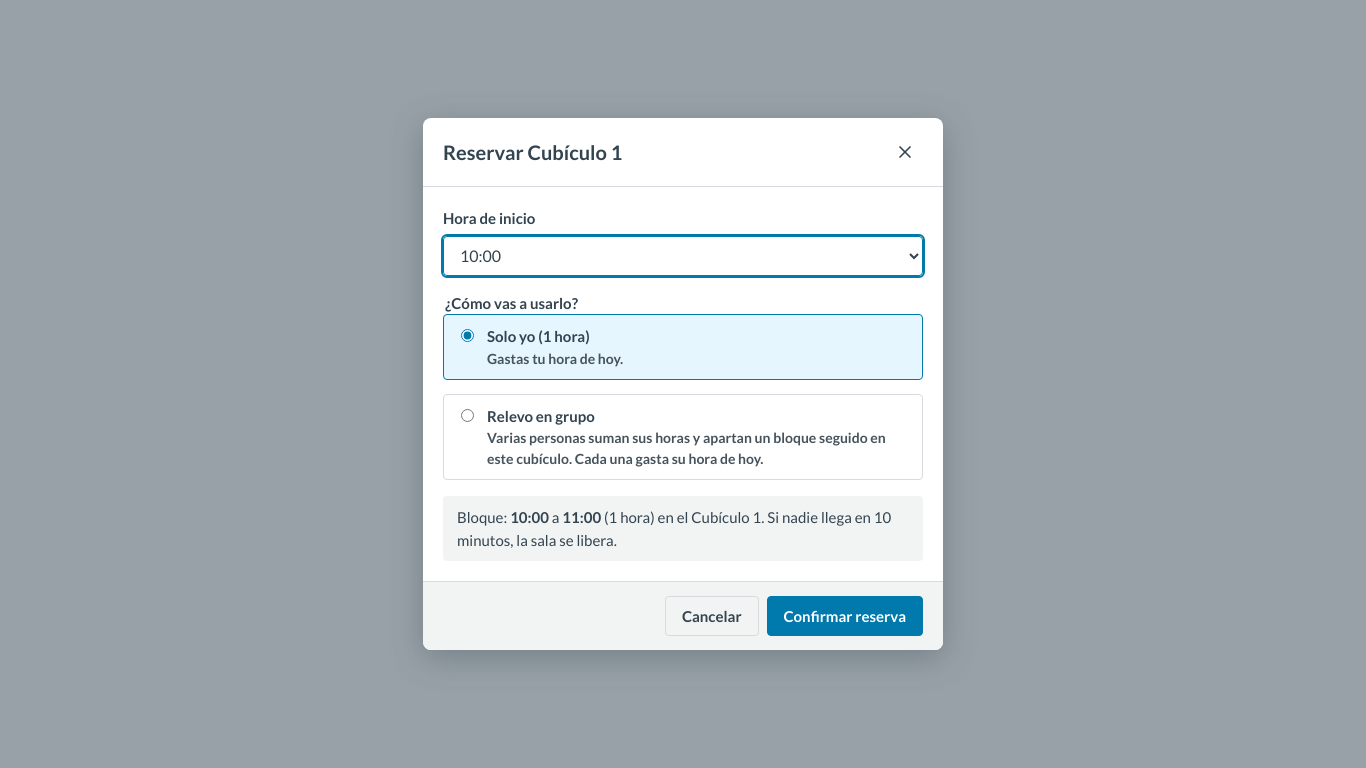
Scenario: ModalReserva › no deja confirmar si alguien del grupo está repetido
The image size is (1366, 768).
Click the radio button labelled "Relevo en grupo".
click(468, 415)  # box left=461, top=408, right=474, bottom=422
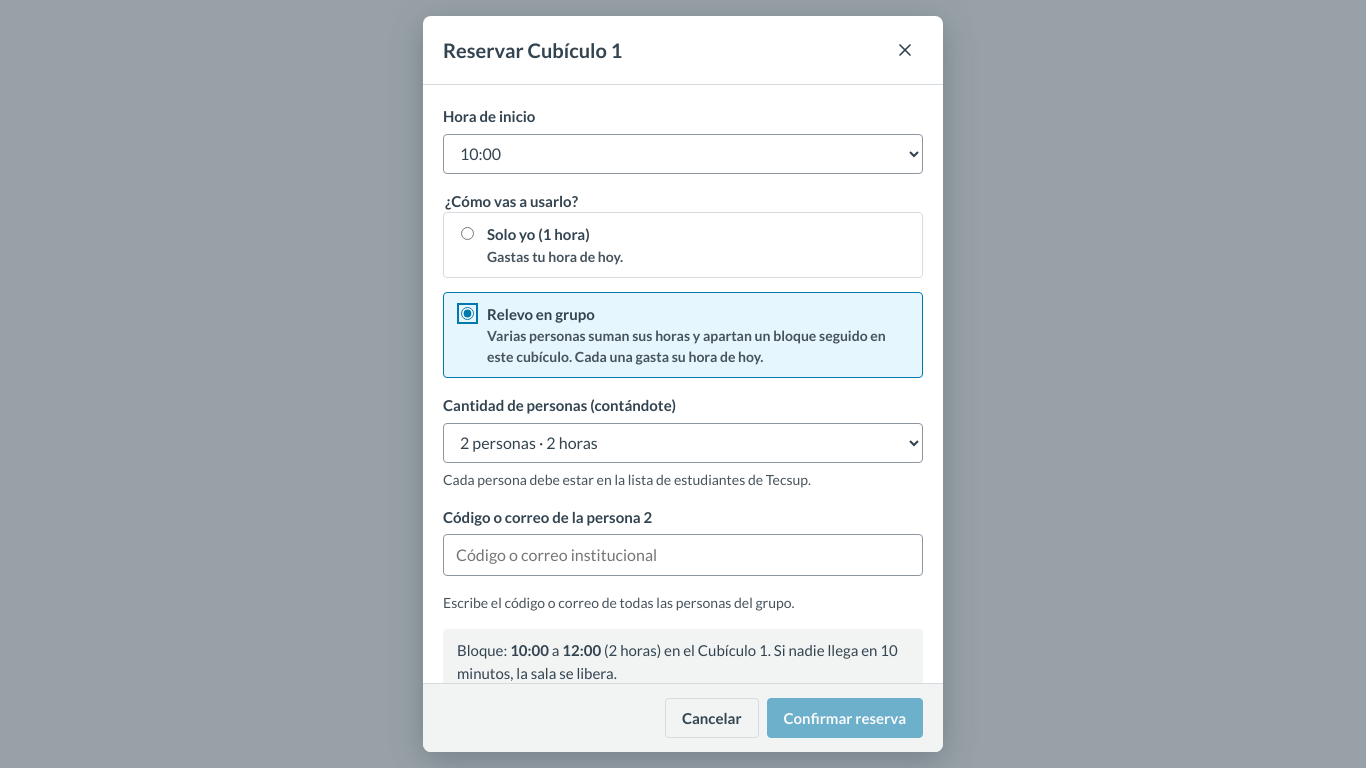
Type "demo01" into the field labelled "Código o correo de la persona 2".
click(683, 555); type("demo01")  # box left=443, top=534, right=923, bottom=576
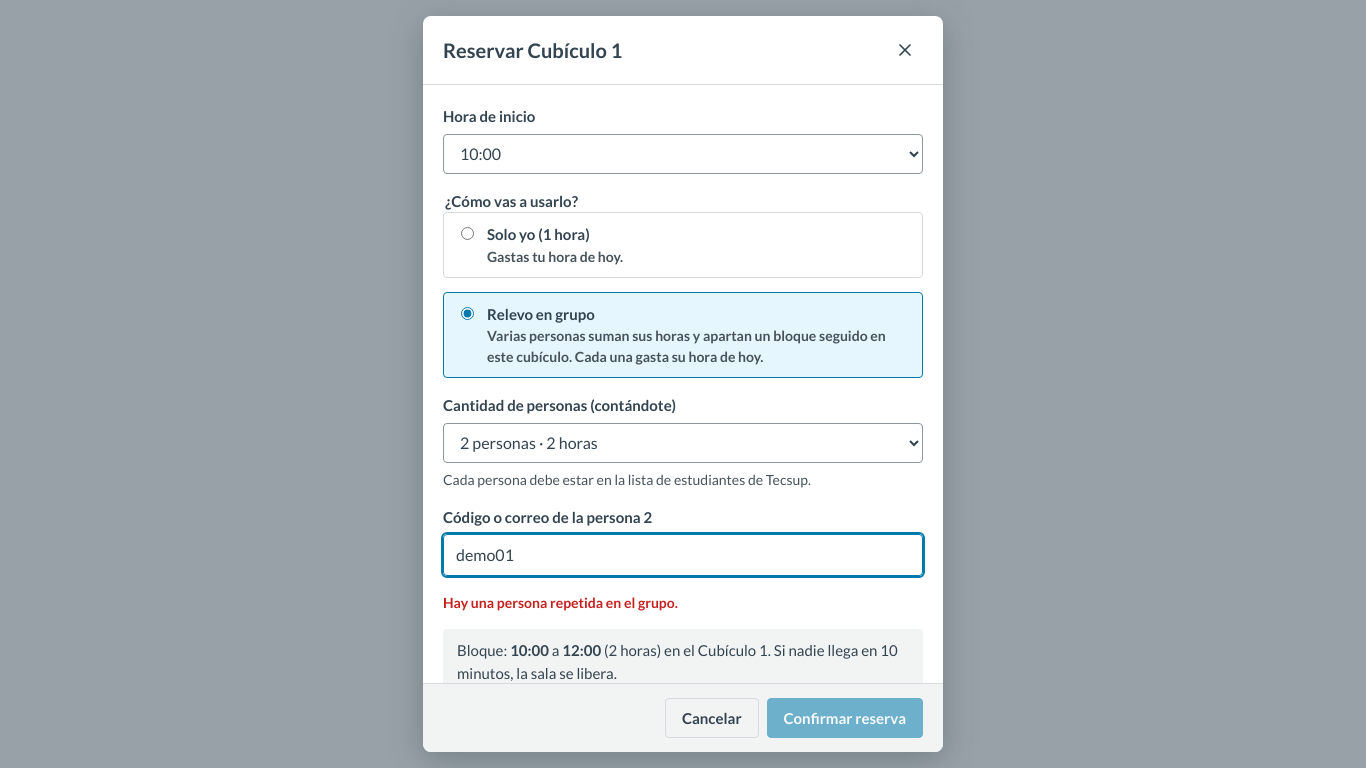
expect the button "Confirmar reserva" is disabled: met, box left=766, top=698, right=923, bottom=738
expect the text "Hay una persona repetida en el grupo." is shown: met, box left=443, top=594, right=678, bottom=611
